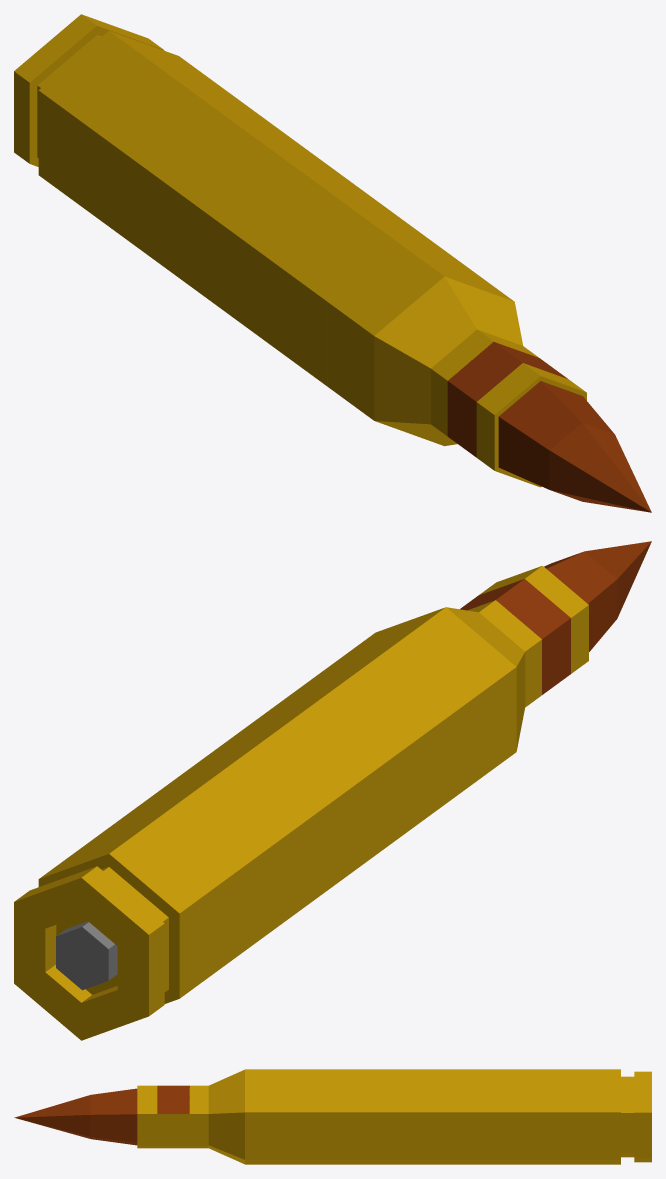
Rendered from bullets.fbx.
The picture shows the model from 3 angles, top to bottom: view 1: azimuth 30°, elevation 25°; view 2: azimuth 150°, elevation 25°; view 3: azimuth 270°, elevation 25°; orthographic projection. The views are drawn at different scales.
Visible parts, largest first — view 1: 7.62x51_Bullet, 7.62x51_Bullet_No_Projectile; view 2: 7.62x51_Bullet, 7.62x51_Bullet_No_Projectile; view 3: 7.62x51_Bullet_No_Projectile, 7.62x51_Bullet.
Boxes of the visible parts, left/top/right/bottom form: 7.62x51_Bullet: left=14, top=14, right=651, bottom=512; 7.62x51_Bullet_No_Projectile: left=327, top=242, right=586, bottom=487; 7.62x51_Bullet: left=14, top=541, right=651, bottom=1040; 7.62x51_Bullet_No_Projectile: left=315, top=565, right=588, bottom=785; 7.62x51_Bullet_No_Projectile: left=137, top=1069, right=568, bottom=1164; 7.62x51_Bullet: left=14, top=1069, right=651, bottom=1164.
Bounding box in the file's own units: 4.12 × 4.75 × 28.91.
